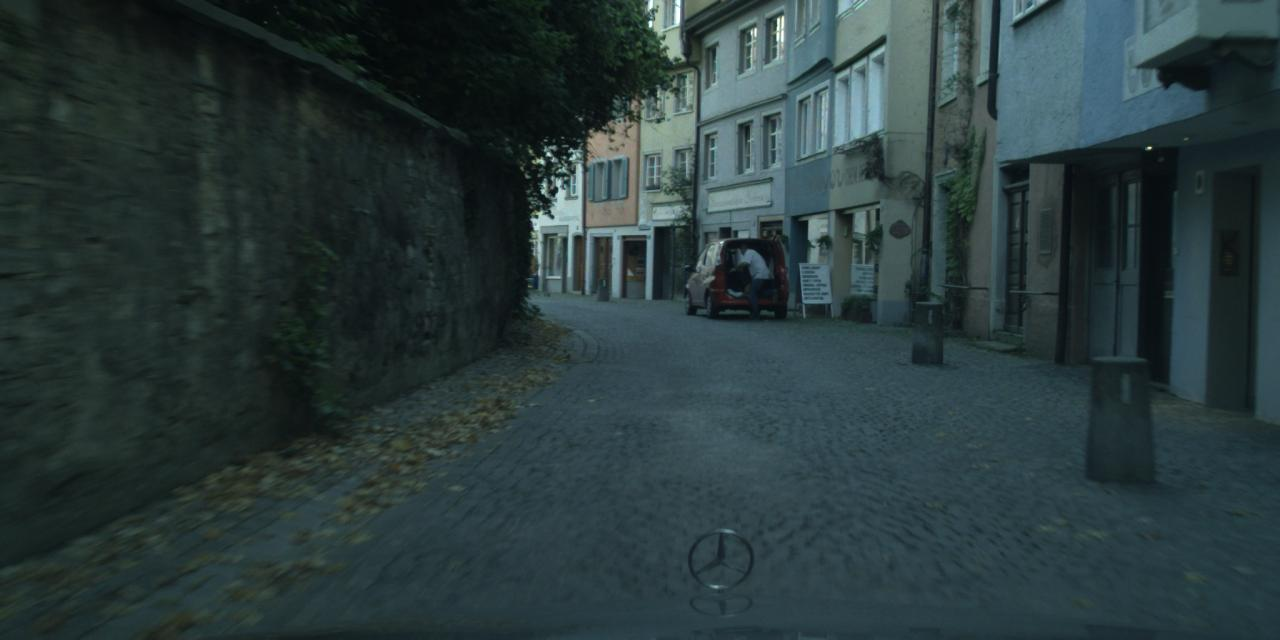ped: (733, 243, 763, 318)
